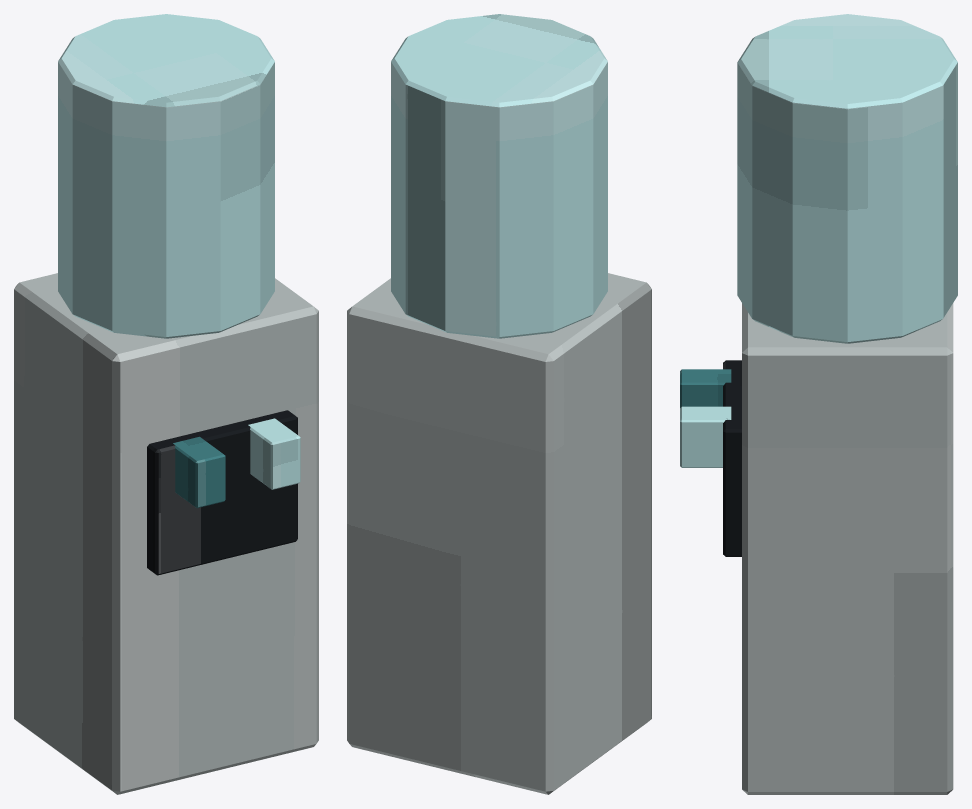
Rendered from office_water_cooler.glb.
The picture shows the model from 3 angles, left to right: view 1: azimuth 30°, elevation 25°; view 2: azimuth 150°, elevation 25°; view 3: azimuth 270°, elevation 25°; orthographic projection.
Parts seen in each view (by area): view 1: CoolerBody, Bottle, DispenserWell, Tap_1, Tap_0; view 2: CoolerBody, Bottle; view 3: CoolerBody, Bottle, DispenserWell, Tap_1, Tap_0.
Boxes of the visible parts, x1,y1,x2,y2 form: CoolerBody: (14,273,318,794); Bottle: (58,14,274,338); DispenserWell: (147,410,297,575); Tap_1: (248,418,300,489); Tap_0: (173,436,225,508); CoolerBody: (347,273,651,794); Bottle: (391,14,607,338); CoolerBody: (742,303,953,794); Bottle: (737,14,957,343); DispenserWell: (723,360,741,556); Tap_1: (680,406,731,467); Tap_0: (680,369,731,407).
Size of the model in its own units: 0.55 by 1.72 by 0.63.
Materials: 1 (1 with a texture image).
